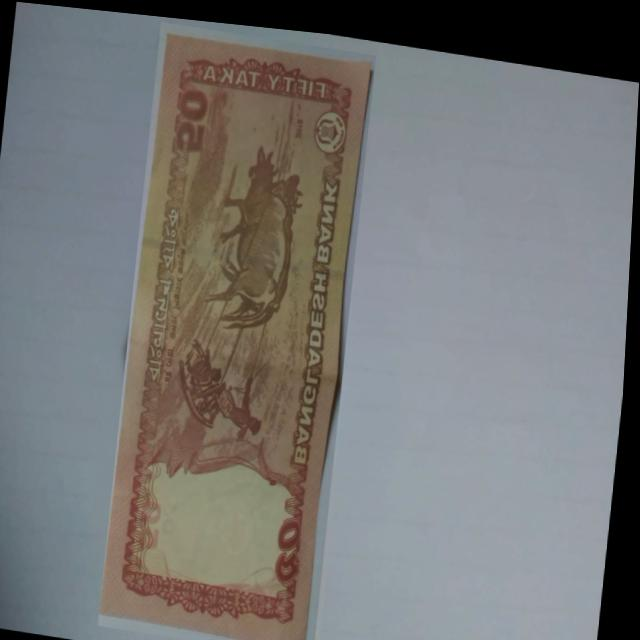Taka: (104, 16, 377, 640)
